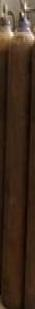cylinder: (1, 1, 35, 309)
